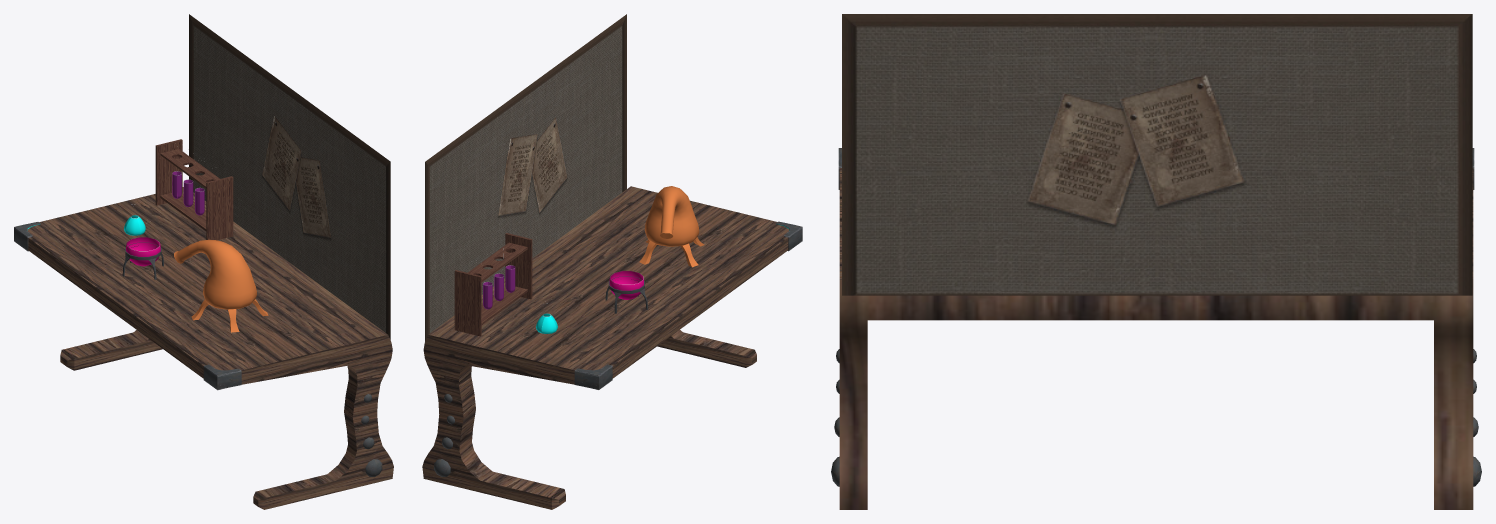
File: table.FBX
The picture shows the model from 3 angles, left to right: view 1: azimuth 30°, elevation 25°; view 2: azimuth 150°, elevation 25°; view 3: azimuth 270°, elevation 25°; orthographic projection. The views are drawn at different scales.
Visible parts, largest first — view 1: Box001, Plane001, Line009, Box008, Box002, Box007, Line004, Box010, Box009; view 2: Box001, Plane001, Line009, Box007, Box002, Box008, Line004, Box010, Box009; view 3: Plane001, Box001.
Boxes of the visible parts, box(x1,y1,x2,y2) form: Box001: box(27, 187, 393, 509); Plane001: box(189, 14, 390, 339); Line009: box(174, 239, 256, 309); Box008: box(206, 176, 233, 240); Box002: box(14, 222, 241, 390); Box007: box(155, 139, 182, 205); Line004: box(122, 237, 163, 279); Box010: box(160, 149, 219, 188); Box009: box(160, 193, 206, 230); Box001: box(422, 186, 788, 509); Plane001: box(425, 14, 626, 340); Line009: box(644, 186, 699, 246); Box007: box(454, 270, 481, 336); Box002: box(574, 221, 802, 389); Box008: box(505, 233, 532, 299); Line004: box(605, 271, 647, 313); Box010: box(468, 242, 527, 282); Box009: box(481, 286, 527, 324); Plane001: box(842, 14, 1472, 295); Box001: box(839, 168, 1473, 509).
Size of the model in its own units: 25.2 by 43.14 by 51.4.
1 material, 1 textured.
